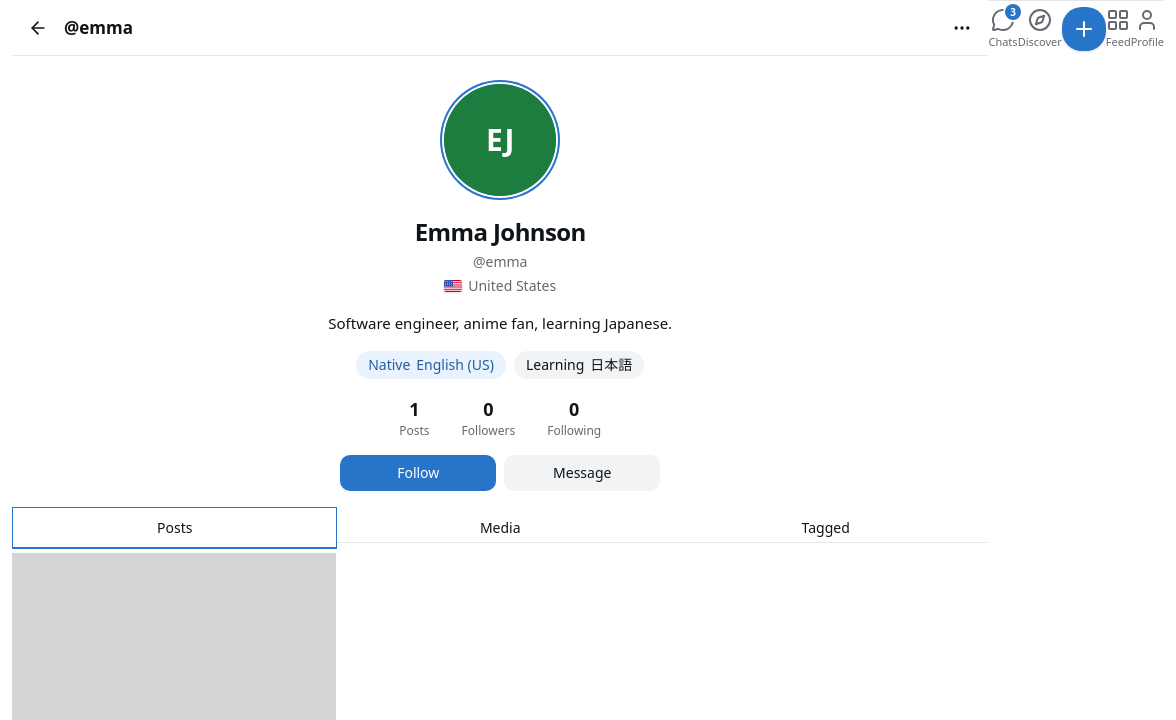
Test: profile › follows and unfollows with live counters
This screenshot has width=1176, height=720.
Click the button "Follow". click: (418,472)
box: 340,454 -> 496,490
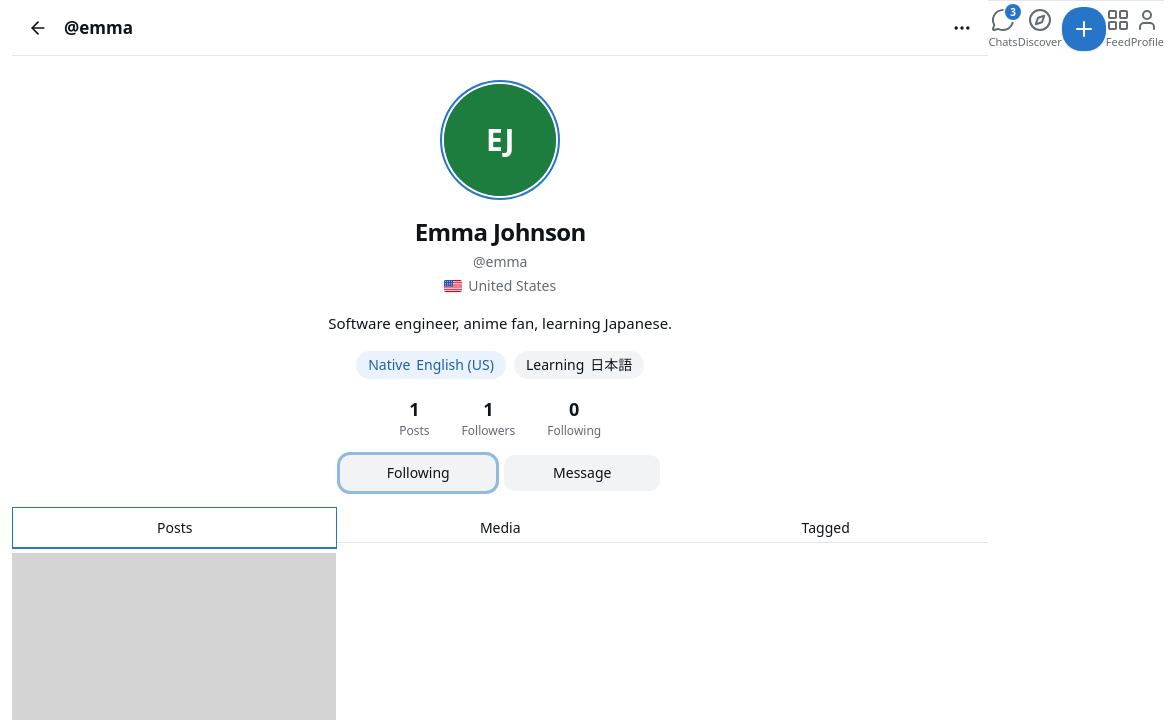
Expected: the button "Following" is shown, 340,454 -> 496,490
